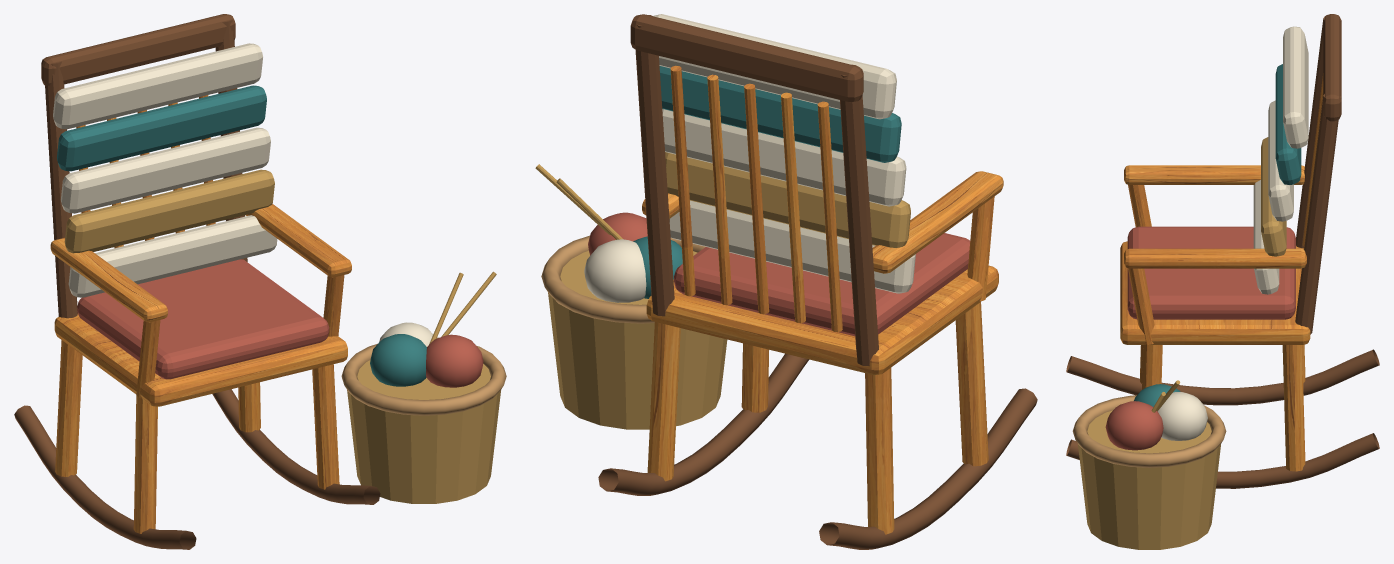
3 views of the same model, side by side, from view 1: azimuth 30°, elevation 25°; view 2: azimuth 150°, elevation 25°; view 3: azimuth 270°, elevation 25° (orthographic). The views are drawn at different scales.
Parts seen in each view (by area): view 1: loft_oak, loft_cream, loft_ochre, loft_red, loft_wood_dark, loft_teal, loft_wood_edge, loft_brass; view 2: loft_oak, loft_wood_dark, loft_ochre, loft_cream, loft_red, loft_teal, loft_wood_edge, loft_brass; view 3: loft_oak, loft_wood_dark, loft_ochre, loft_red, loft_cream, loft_wood_edge, loft_teal.
Boxes of the visible parts, x1,y1,x2,y2 form: loft_oak: [50, 95, 351, 533]; loft_cream: [53, 43, 433, 346]; loft_ochre: [64, 169, 500, 503]; loft_red: [77, 259, 483, 387]; loft_wood_dark: [14, 14, 380, 549]; loft_teal: [57, 85, 426, 386]; loft_wood_edge: [341, 337, 506, 415]; loft_brass: [429, 271, 496, 344]; loft_oak: [642, 65, 1003, 534]; loft_wood_dark: [598, 14, 1037, 549]; loft_ochre: [548, 152, 910, 429]; loft_cream: [584, 14, 915, 302]; loft_red: [588, 212, 970, 336]; loft_teal: [633, 66, 901, 298]; loft_wood_edge: [541, 235, 705, 323]; loft_brass: [535, 164, 622, 239]; loft_oak: [1120, 73, 1323, 471]; loft_wood_dark: [1066, 14, 1379, 488]; loft_ochre: [1077, 137, 1286, 549]; loft_red: [1105, 226, 1295, 450]; loft_cream: [1157, 26, 1308, 440]; loft_wood_edge: [1072, 395, 1226, 467]; loft_teal: [1134, 64, 1301, 406].
Bounding box in the file's own units: 1.09 × 1.18 × 0.8575.
8 materials, 1 textured.
